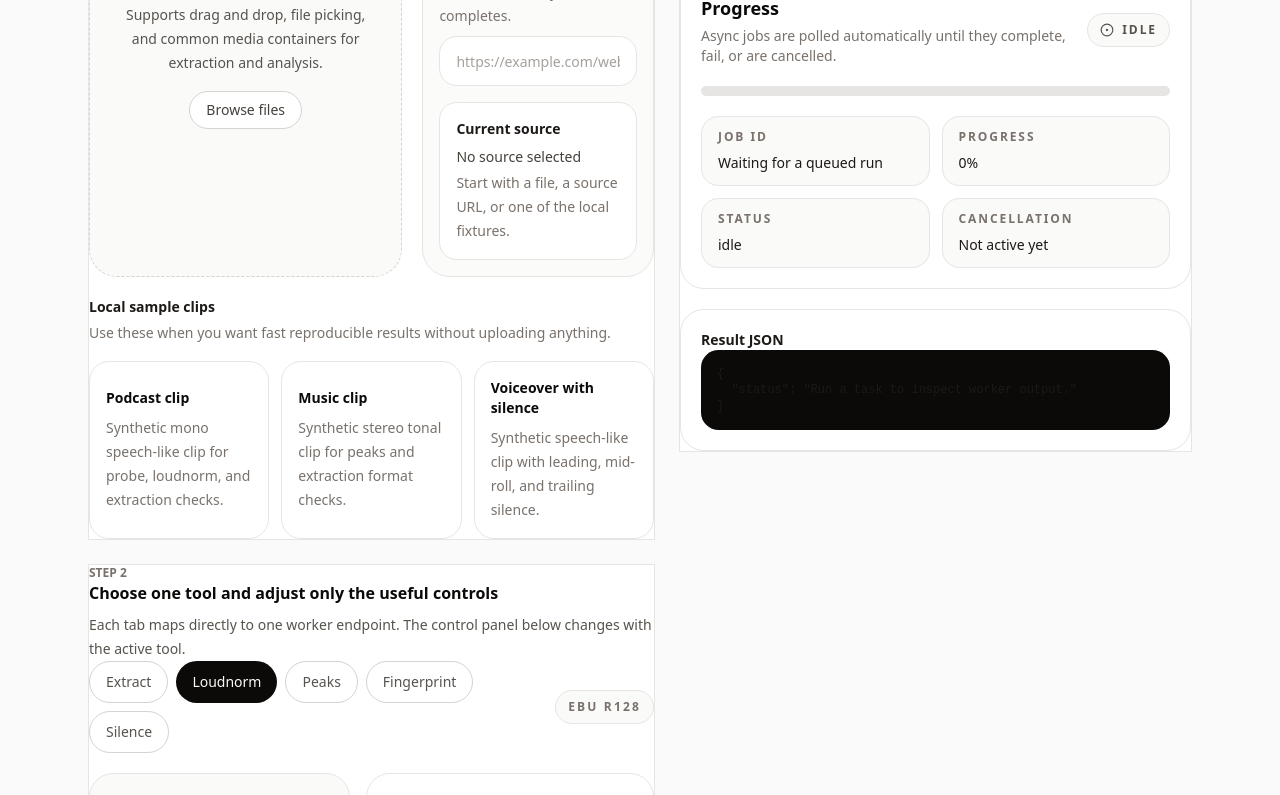
Test: AudioSuiteApp › cancels an in-flight job without overwriting the cancelled status
(page scrolled)
What coordinates should you click on to do the following:
click the button "Podcast clip"
I would click on:
 (179, 450)
Its box is [89, 361, 269, 539].
(page scrolled)
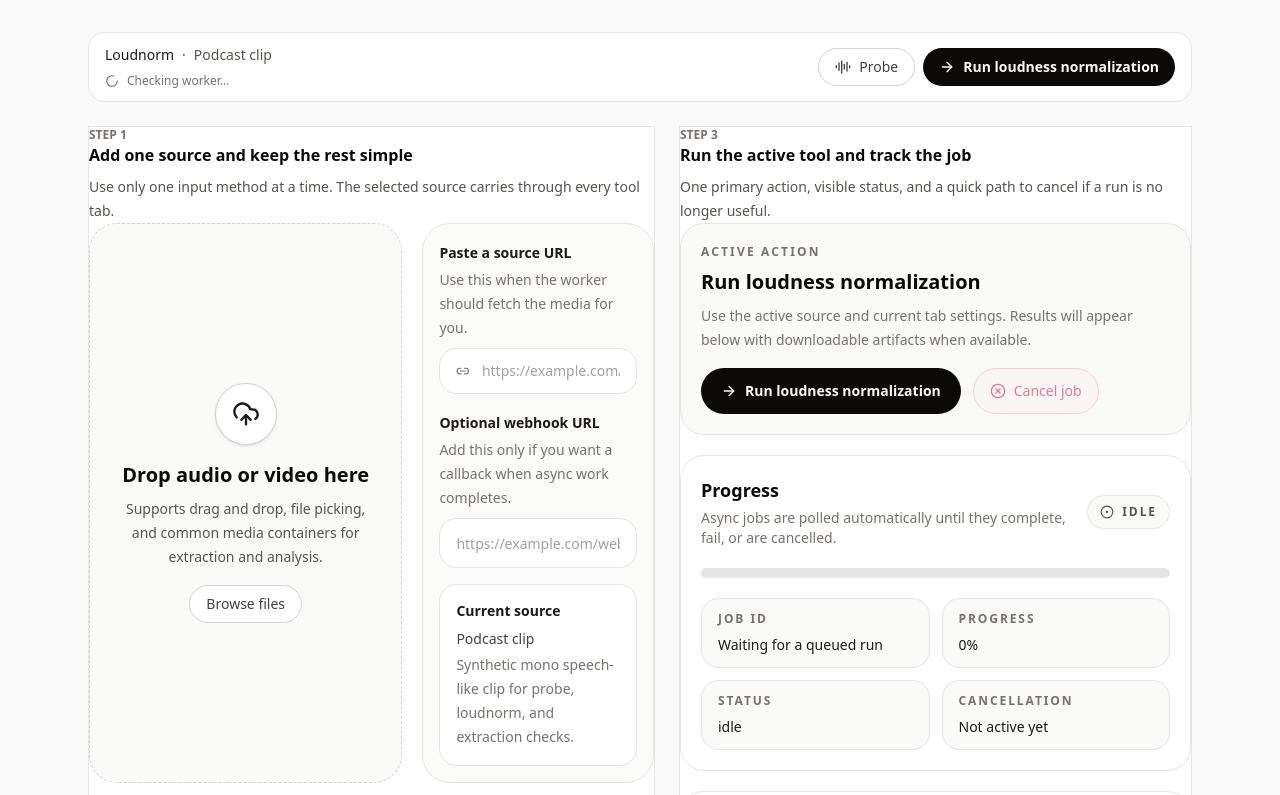
What coordinates should you click on to do the following:
click the button "Run loudness normalization" in the row of "Checking worker…"
I would click on:
 (1049, 67)
Its box is [923, 48, 1175, 86].
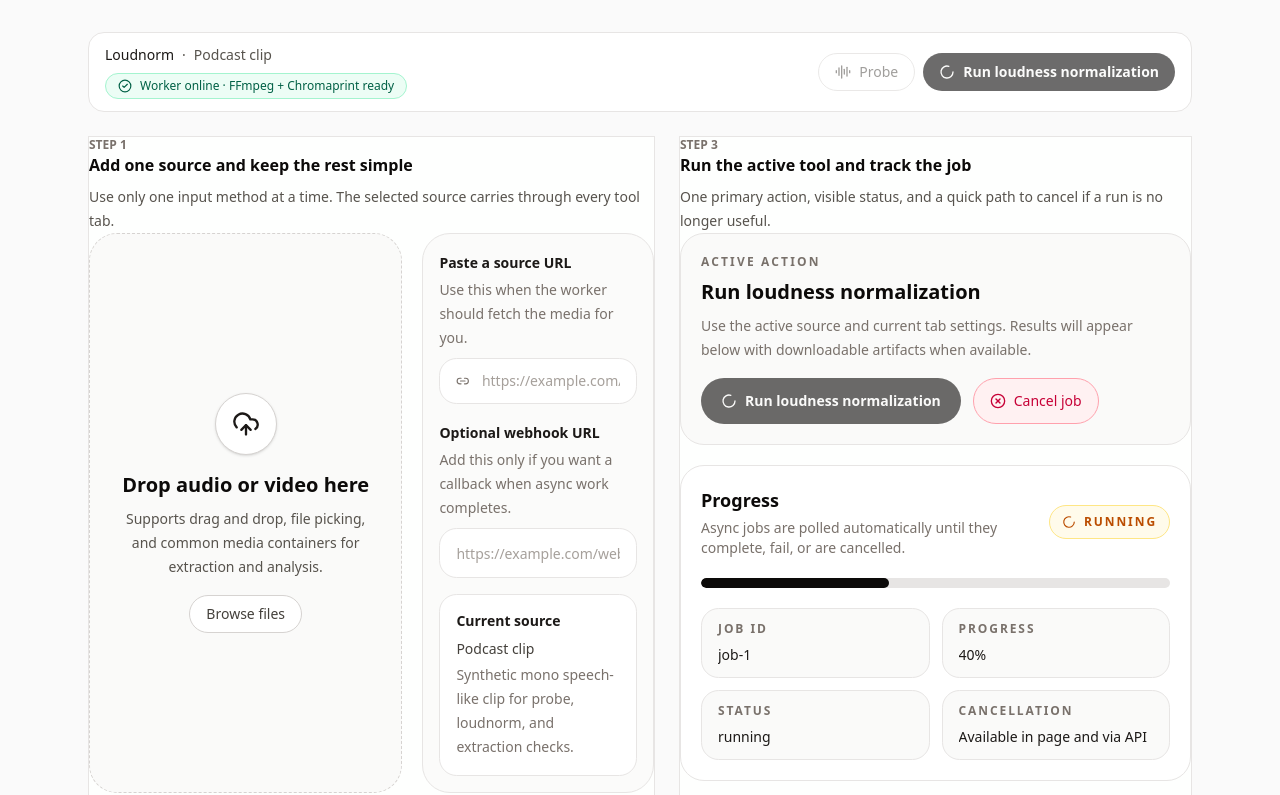
Expected: the button "Cancel job" is enabled
What coordinates should you click on to do the following:
click the button "Cancel job"
I would click on:
 (1036, 401)
Its box is [973, 378, 1099, 424].
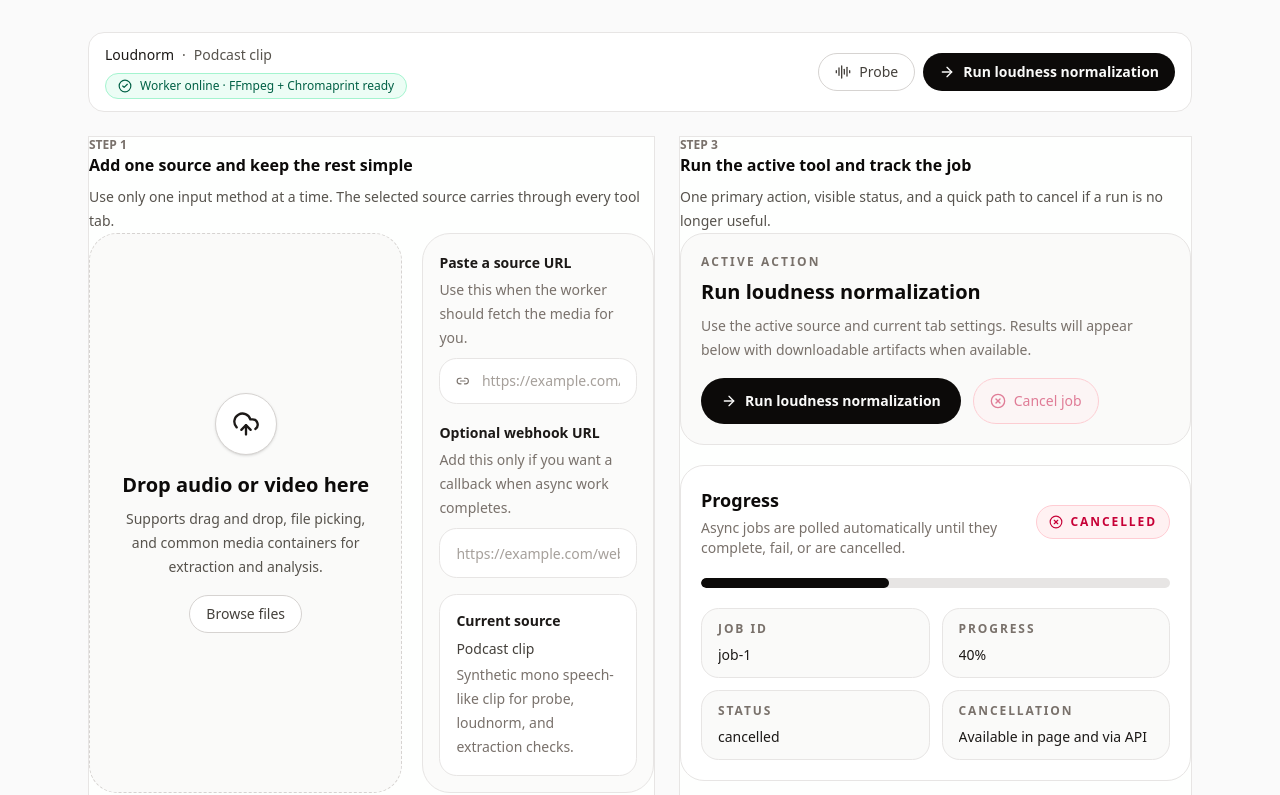
Expected: the text "cancelled" is shown, [1036, 505, 1170, 539]
